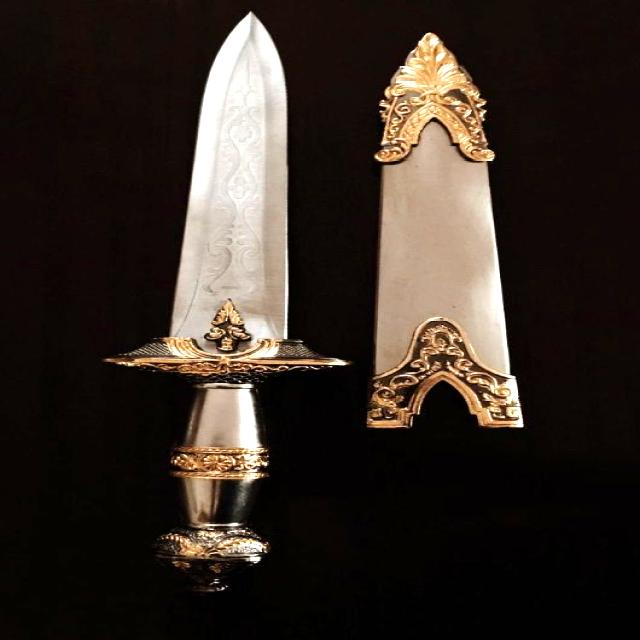short sword: (124, 12, 352, 598)
